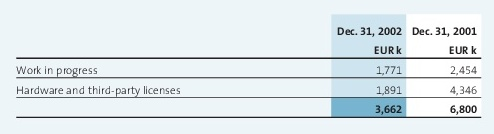table: (0, 0, 494, 134)
